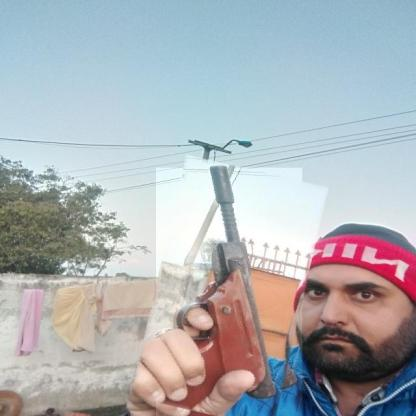handgun: (143, 161, 315, 416)
